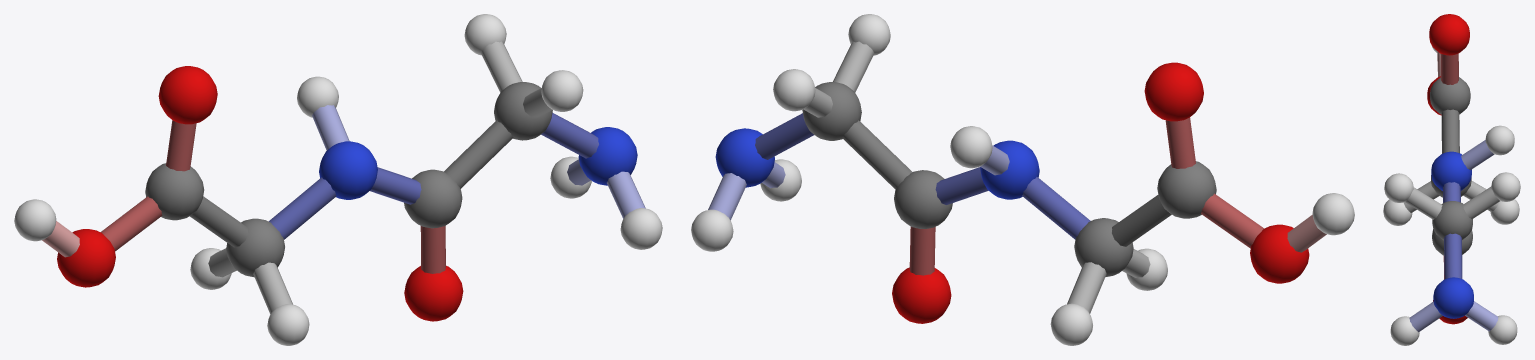
File: gly-gly.glb
3 views of the same model, side by side, from view 1: azimuth 30°, elevation 25°; view 2: azimuth 150°, elevation 25°; view 3: azimuth 270°, elevation 25° (orthographic). The views are drawn at different scales.
Bounding box in the file's own units: 0.25 × 0.1202 × 0.0675.
